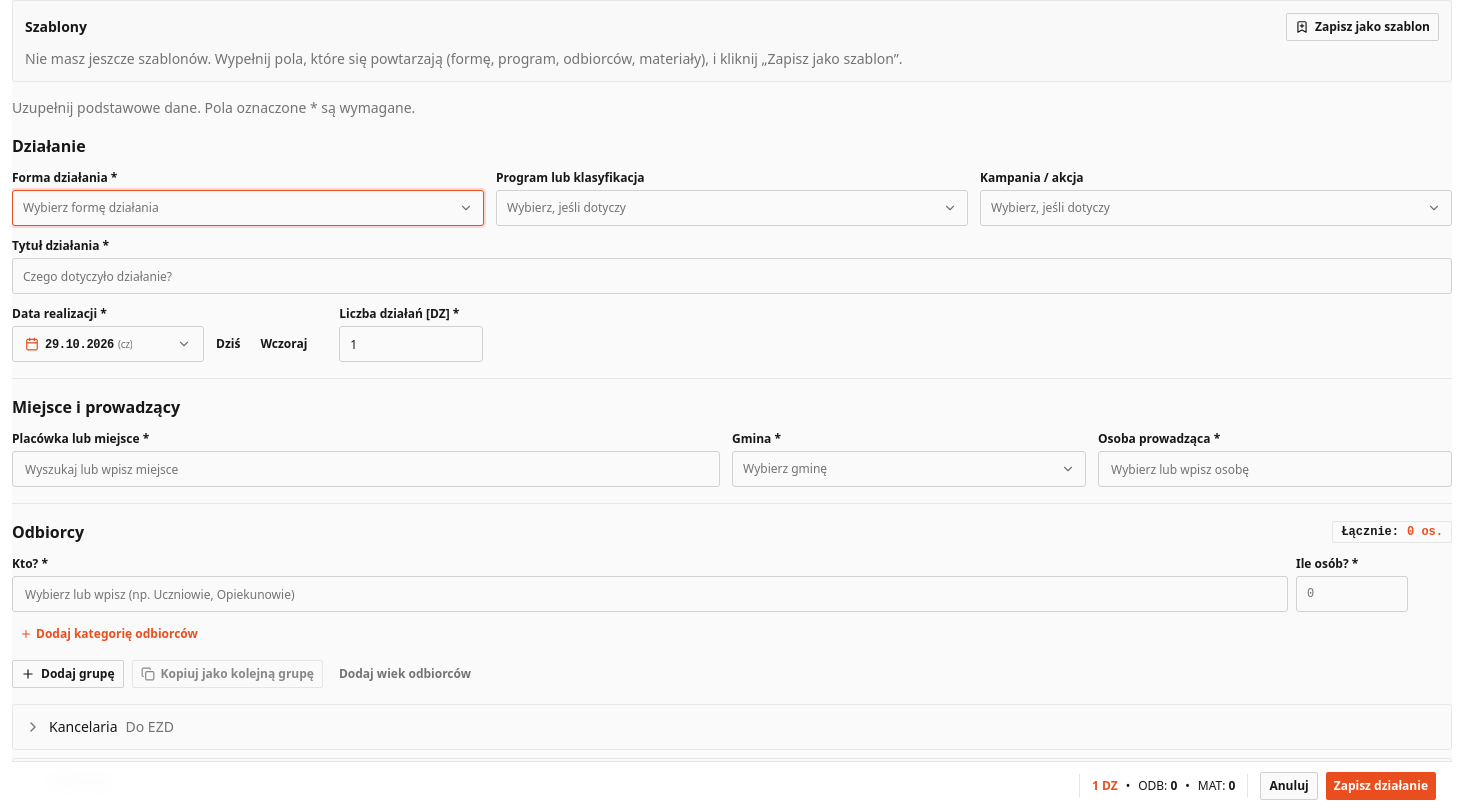
Test: Quick action form › hides materials for publications, shows them for distribution and restores an audience row on type change
The width and height of the screenshot is (1464, 810).
Step 1. Click the button named "Forma działania *" → (91, 208), box [12,190,484,226]
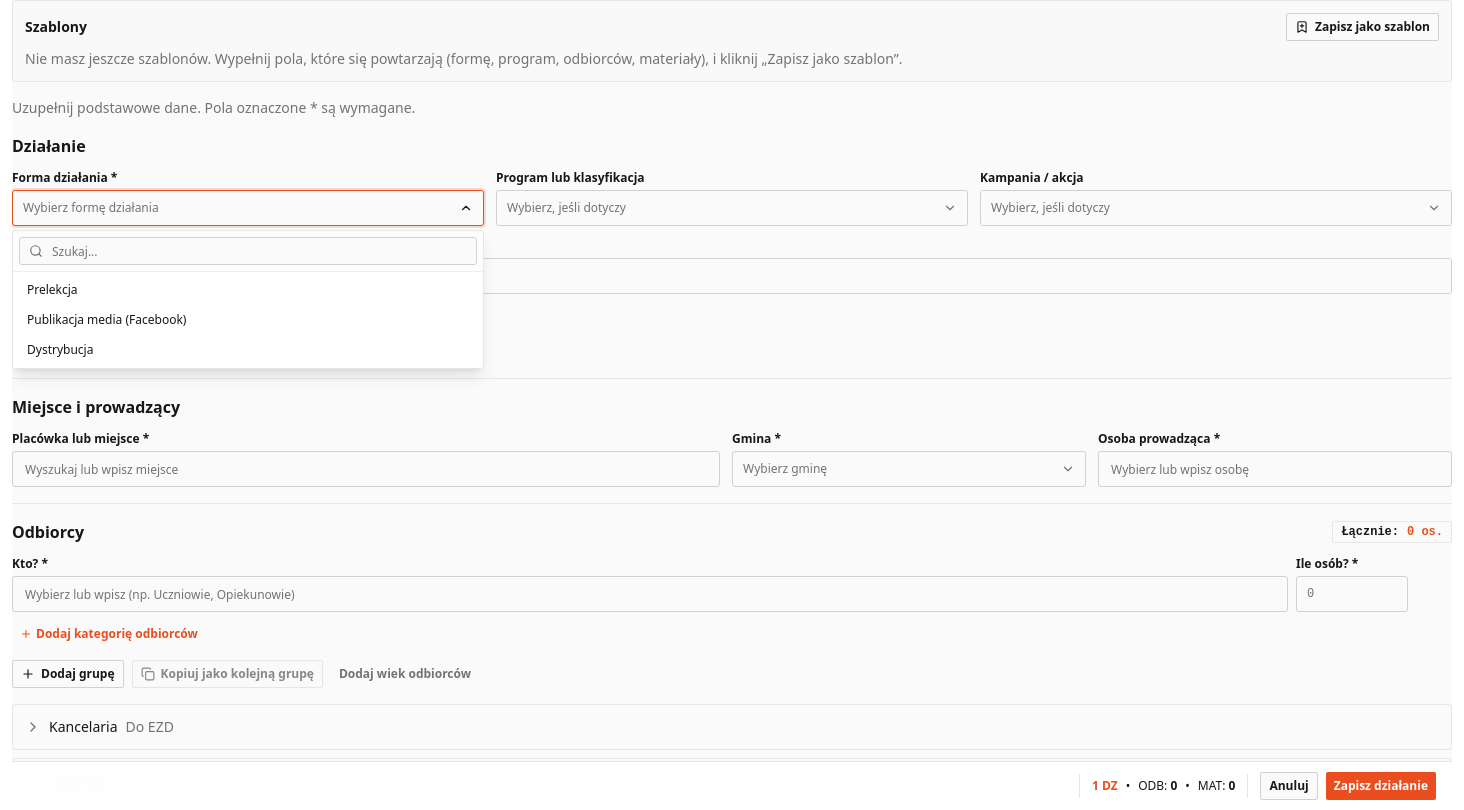
Step 2. Click the option "Publikacja media (Facebook)" → (107, 320), box [27,311,186,328]
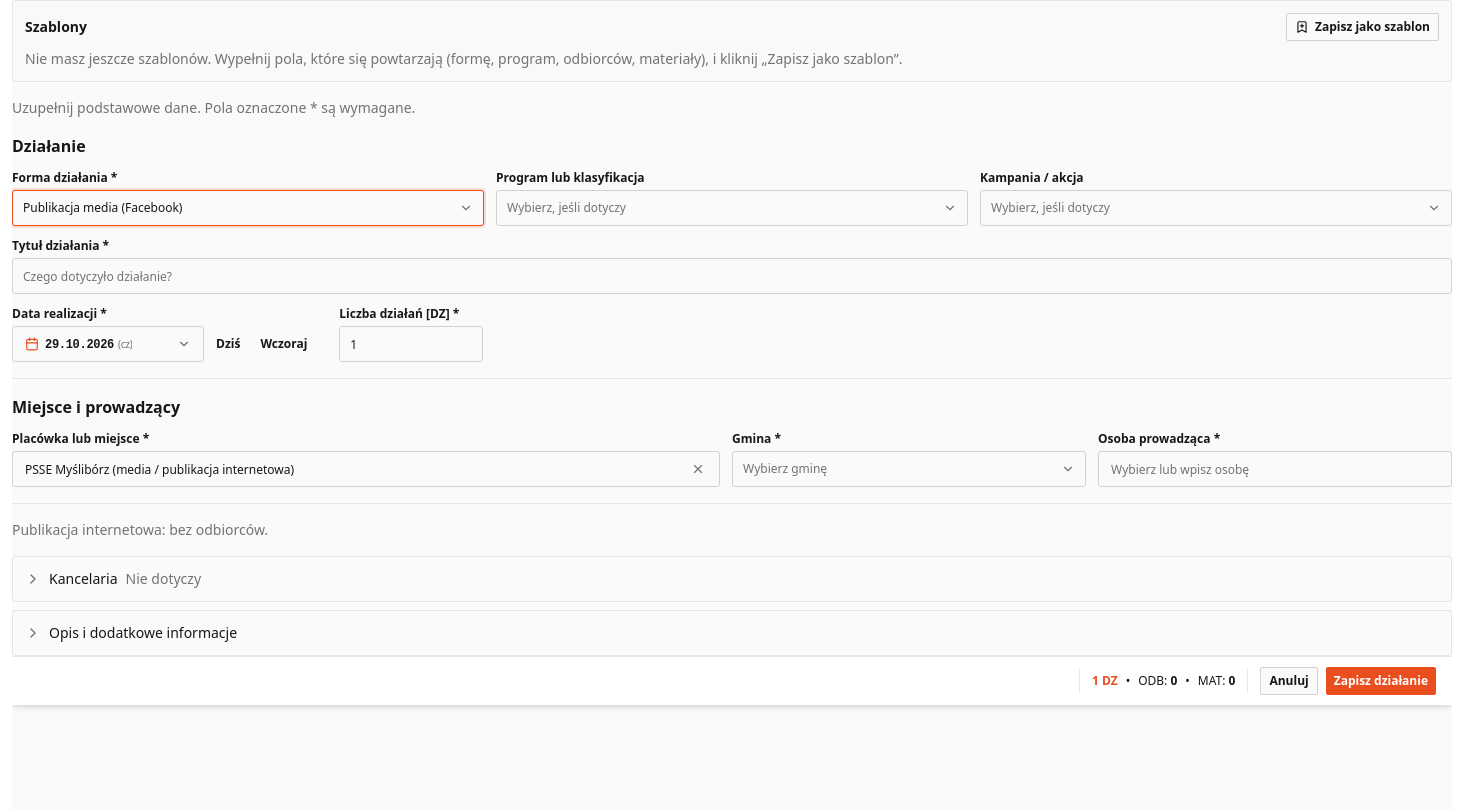
Expected: the text "Materiały" is not shown
Expected: the field labelled "Kto? *" is not shown
Step 3. Click the button named "Forma działania *" → (103, 208), box [12,190,484,226]
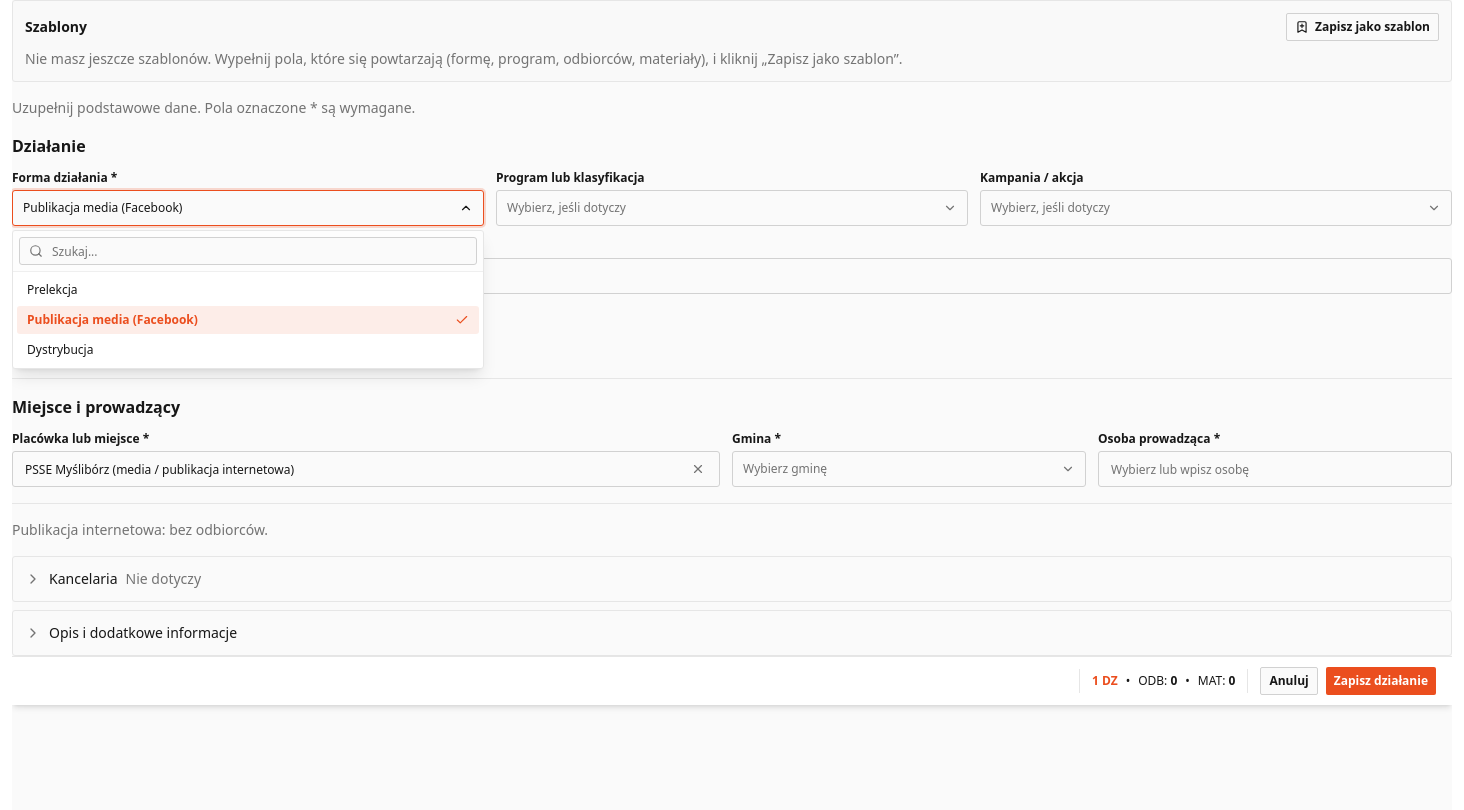
Step 4. Click the option "Dystrybucja" → (60, 350), box [27,341,93,358]
(page scrolled)
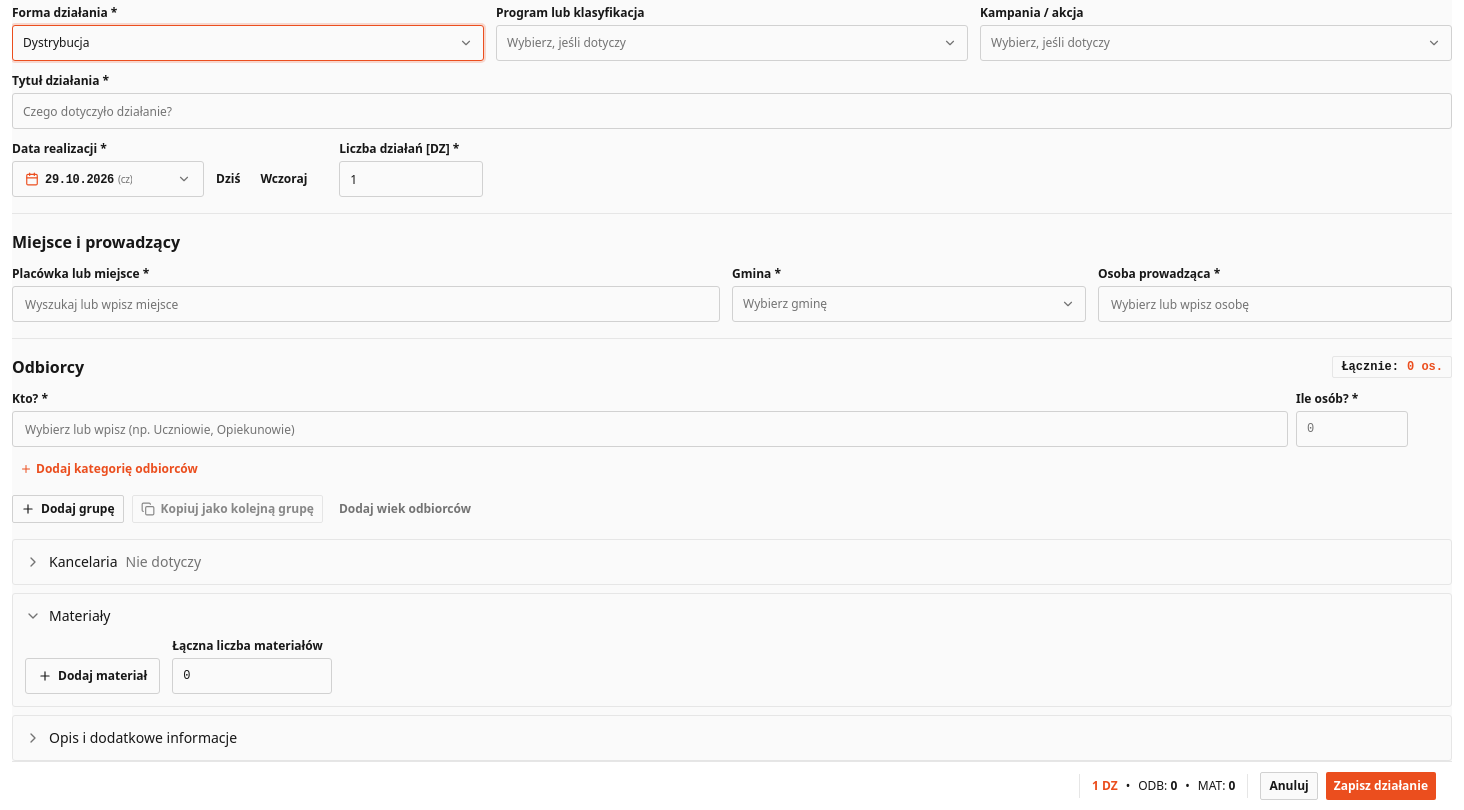
Now the dropdown labelled "Kto? *" is shown, box [12,411,1288,447]
Now the button "Dodaj materiał" is shown, box [25,658,160,694]
